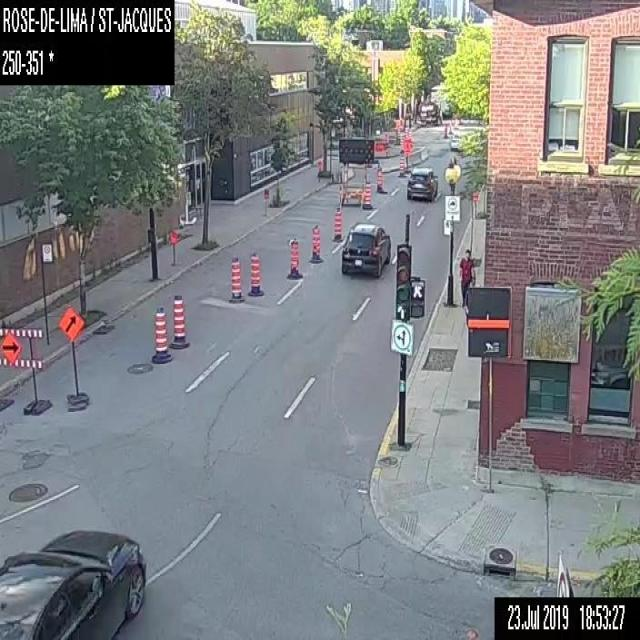construction: (0, 325, 47, 413), (56, 301, 89, 408), (336, 136, 373, 206), (149, 300, 173, 364), (170, 290, 190, 350), (227, 253, 246, 303), (248, 251, 264, 297), (285, 237, 302, 279), (309, 222, 320, 262), (166, 230, 178, 266), (332, 206, 342, 242), (361, 180, 372, 209), (403, 136, 411, 172), (376, 166, 385, 191), (397, 155, 406, 177), (317, 159, 323, 181), (384, 132, 389, 158), (0, 334, 5, 358), (393, 118, 402, 130), (404, 126, 410, 141), (399, 134, 404, 152), (263, 185, 268, 198)
pedestrian: (458, 246, 477, 310)
vehicle: (0, 526, 147, 638), (339, 220, 392, 277), (405, 166, 438, 202)
